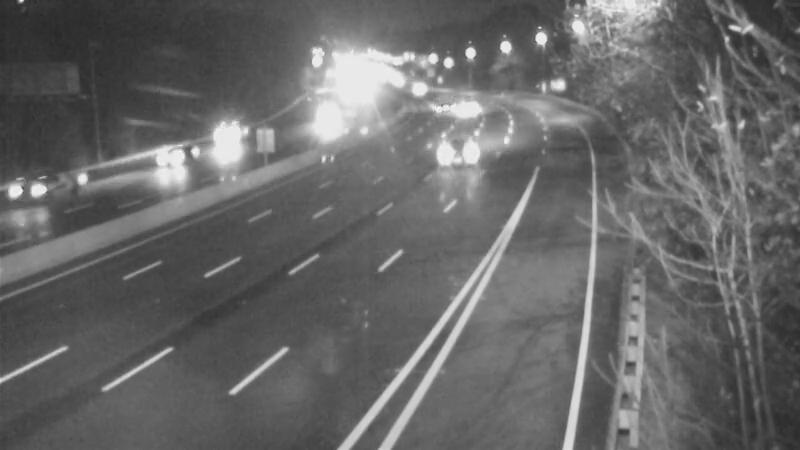vehicle: (3, 144, 83, 224), (126, 118, 206, 198), (416, 77, 466, 127), (443, 80, 493, 130), (432, 120, 482, 170), (206, 119, 256, 169), (291, 100, 341, 150)
